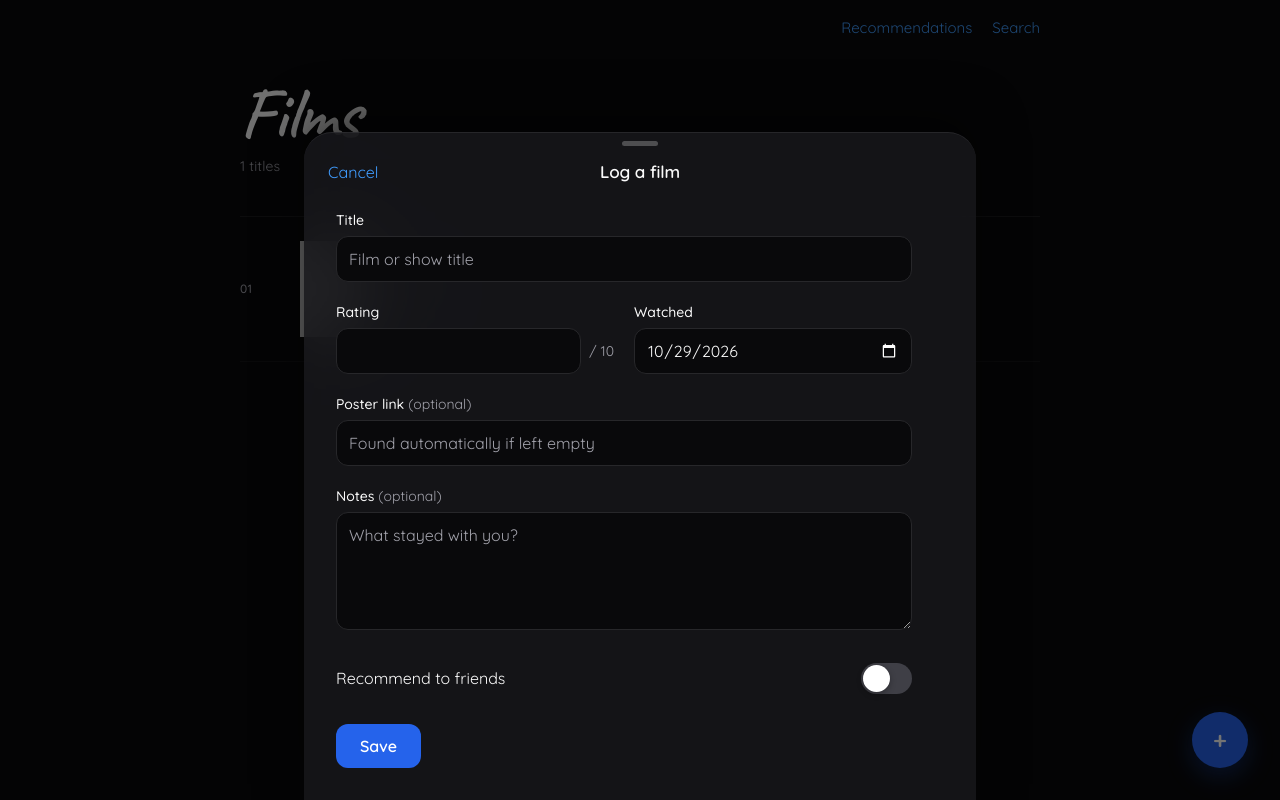
Test: automatic posters › suggests titles with posters while typing and fills both in
The width and height of the screenshot is (1280, 800).
Type "Parasite" into the field labelled "Title" at (624,259), box [336,236,912,282]
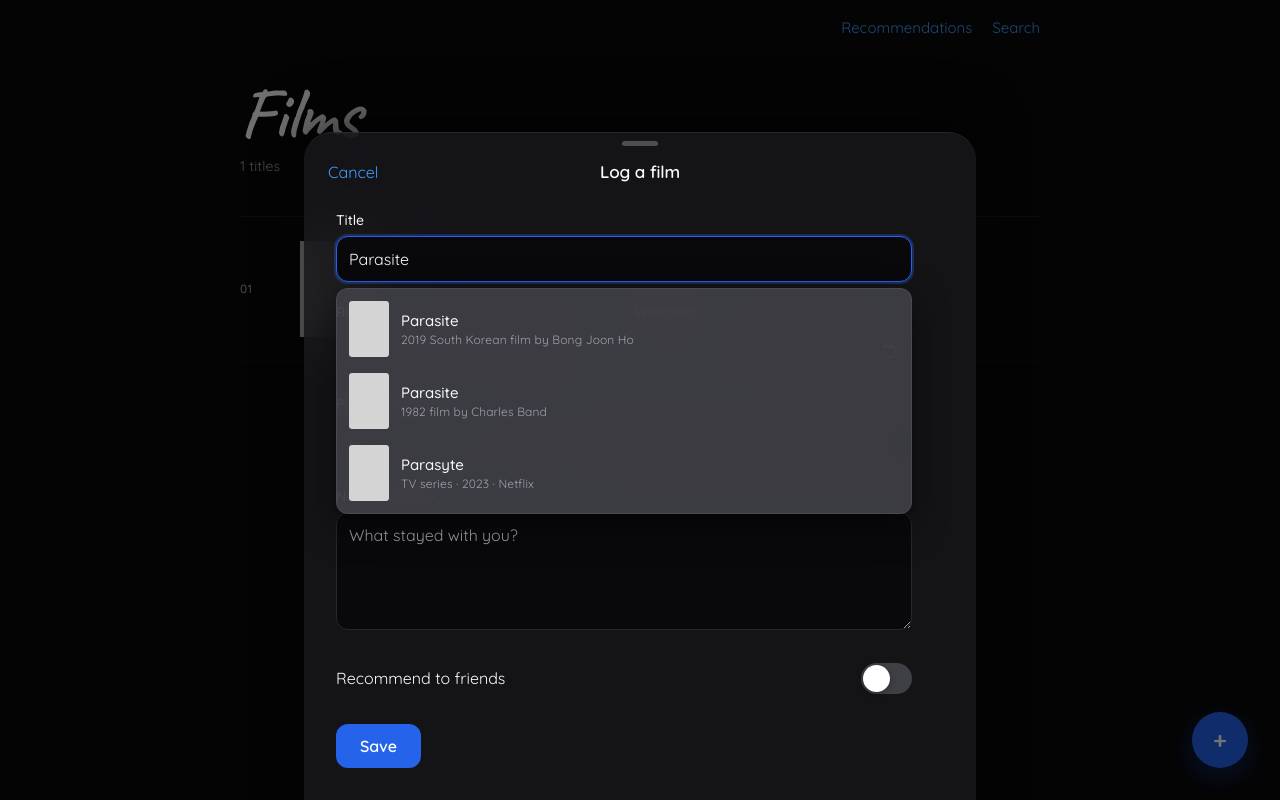
Click the button with aria-label "Parasite, 2019 South Korean film by Bong Joon Ho" at (369,329), box [341,293,907,365]
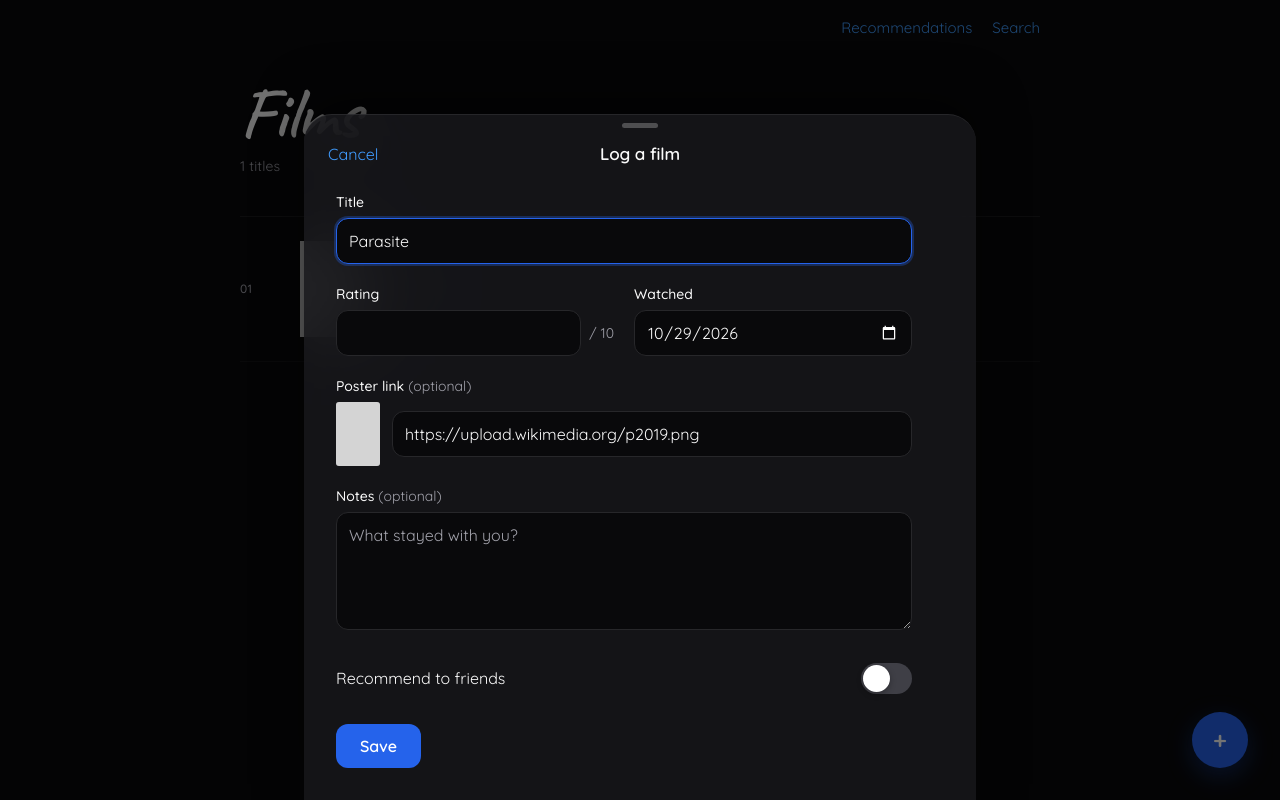
Now the field labelled "Poster link (optional)" holds "https://upload.wikimedia.org/p2019.png", box [392,411,912,457]
Now the list "Suggestions" is gone
